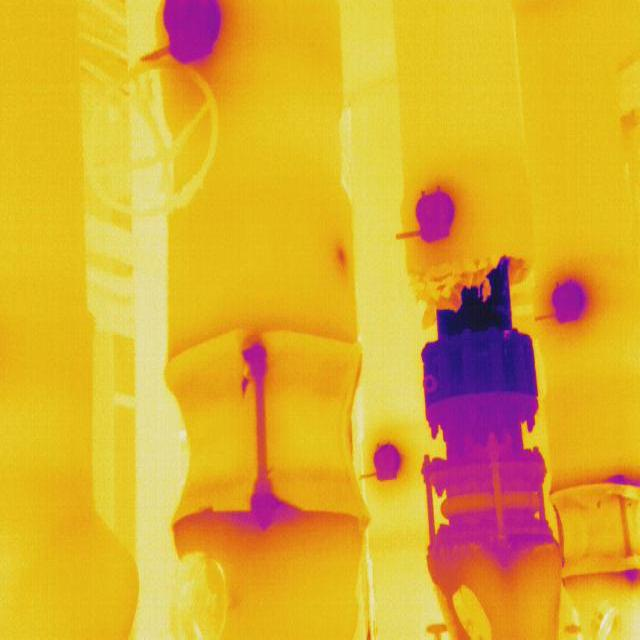leakage: (327, 237, 354, 273)
